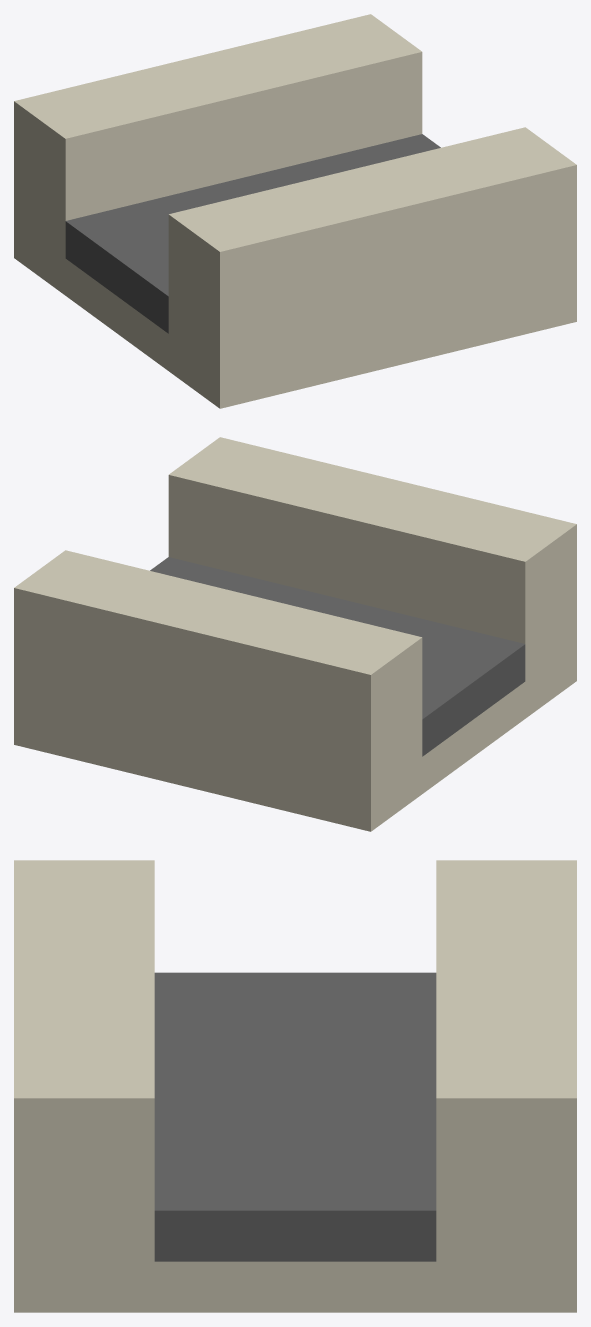
Rendered from tile000.dae.
3 renders of one model, top to bottom at view 1: azimuth 30°, elevation 25°; view 2: azimuth 150°, elevation 25°; view 3: azimuth 270°, elevation 25°, orthographic. The views are drawn at different scales.
Visible parts, largest first — view 1: tile000; view 2: tile000; view 3: tile000.
Part boxes in pixels (<box>): tile000: <box>14,14,576,408</box>; tile000: <box>14,437,576,831</box>; tile000: <box>14,860,576,1312</box>.
Size of the model in its own units: 1 by 0.42 by 1.
